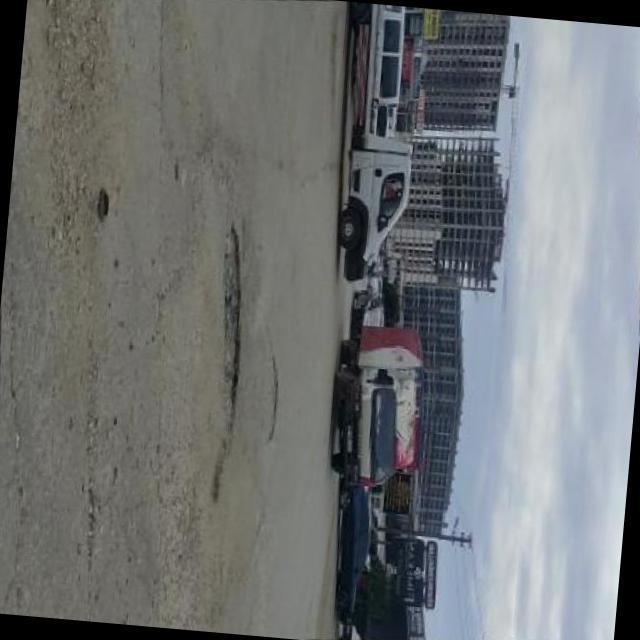Pothole: (224, 224, 241, 414)
